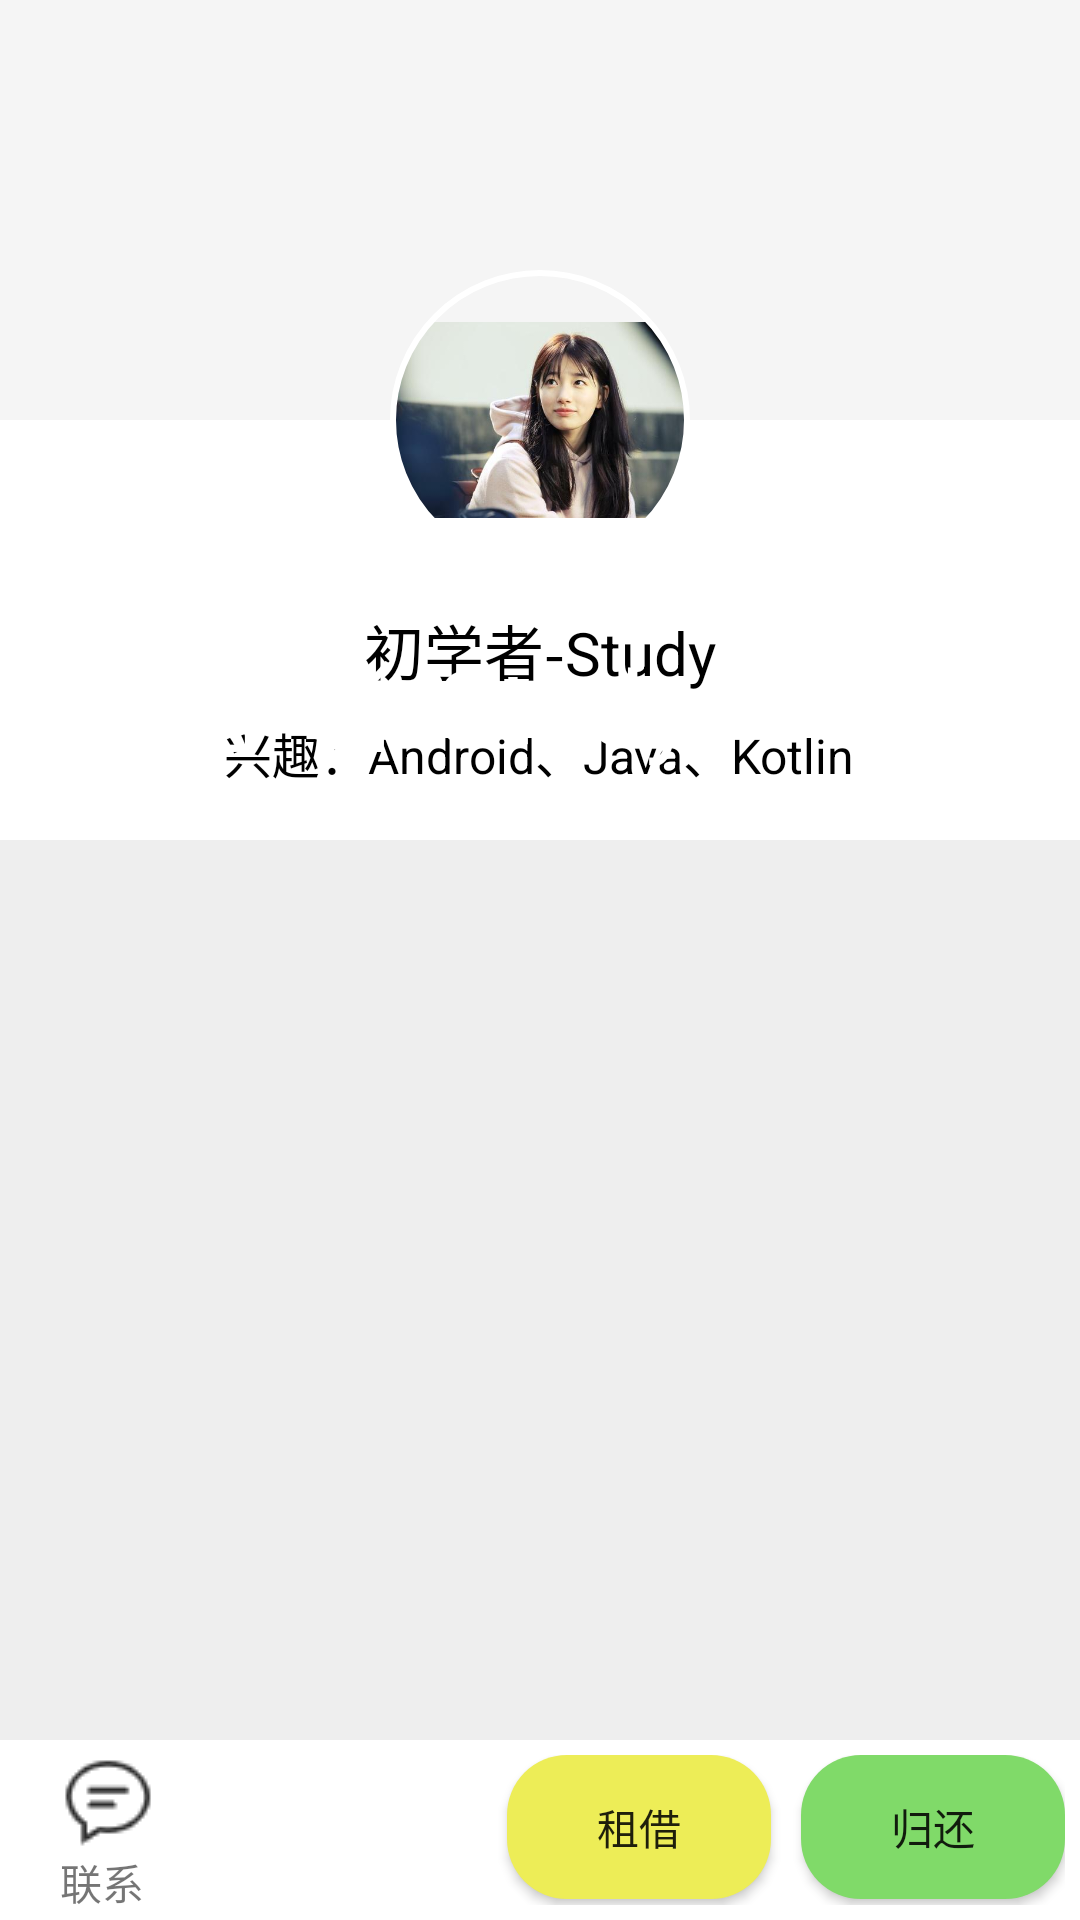

Locate icon controls on the screen. Image size 1080w x 1920h, boxes as (x1, y1, x2, y2).
chat: (65, 1760, 151, 1846)
